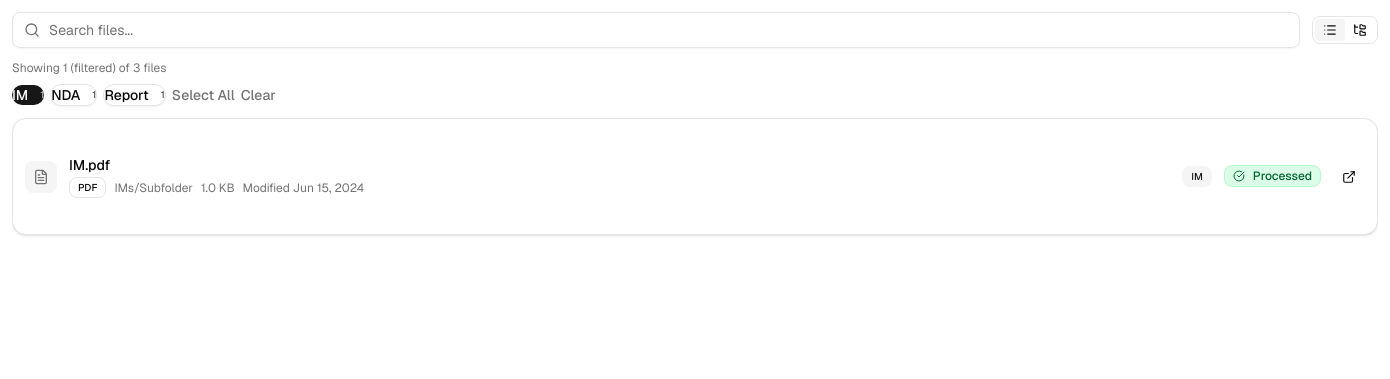
Scenario: VirtualFilesList › file type filter pills › selects all pills when Select All is clicked
The image size is (1390, 379).
Expected: the text "IM.pdf" is shown, 69,156 -> 110,174
Expected: the text "NDA.pdf" is not shown
Click Select All
Click the button "Select All" at {"x": 203, "y": 95}, box 172,85 -> 235,105
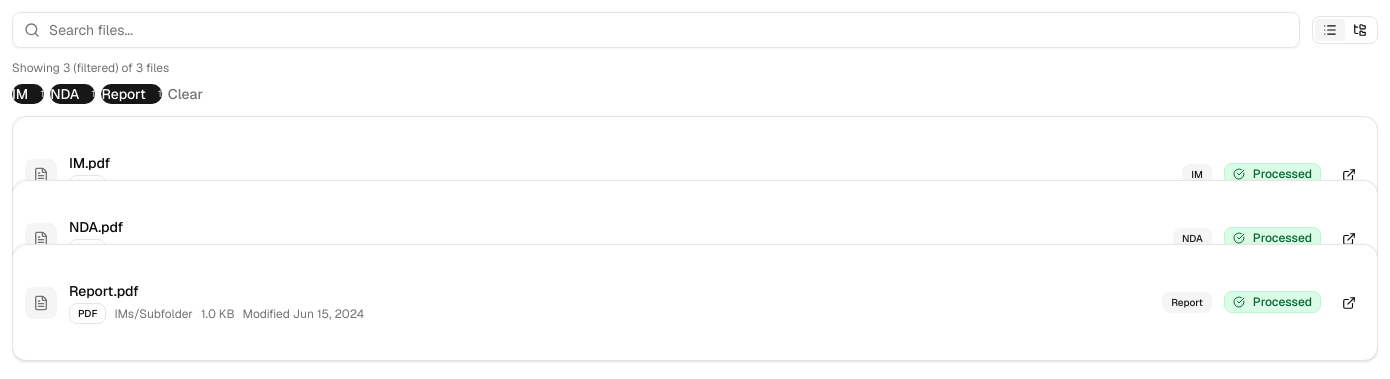
Expected: the text "IM.pdf" is shown, 69,154 -> 110,172
Result: the text "NDA.pdf" is shown at 69,218 -> 123,236
Result: the text "Report.pdf" is shown at 69,282 -> 139,300
